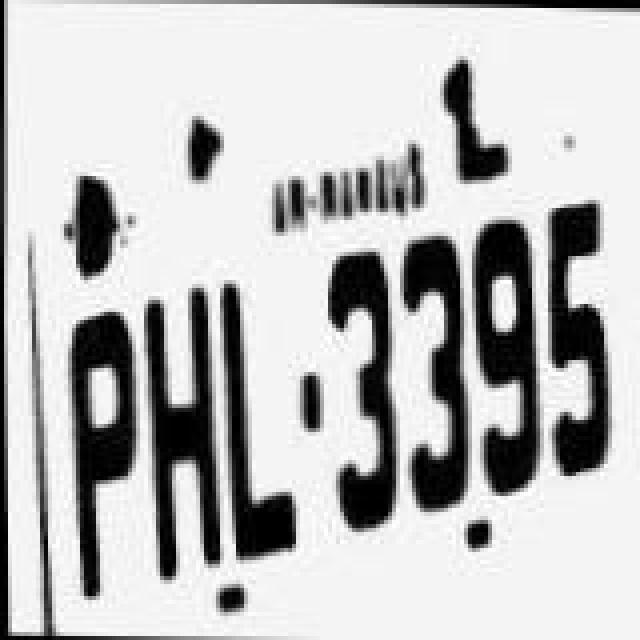3: (320, 248, 404, 540), (396, 230, 476, 514)
5: (536, 204, 632, 484)
9: (464, 220, 552, 504)
H: (140, 292, 228, 580)
L: (218, 286, 306, 562)
P: (58, 312, 142, 592)
